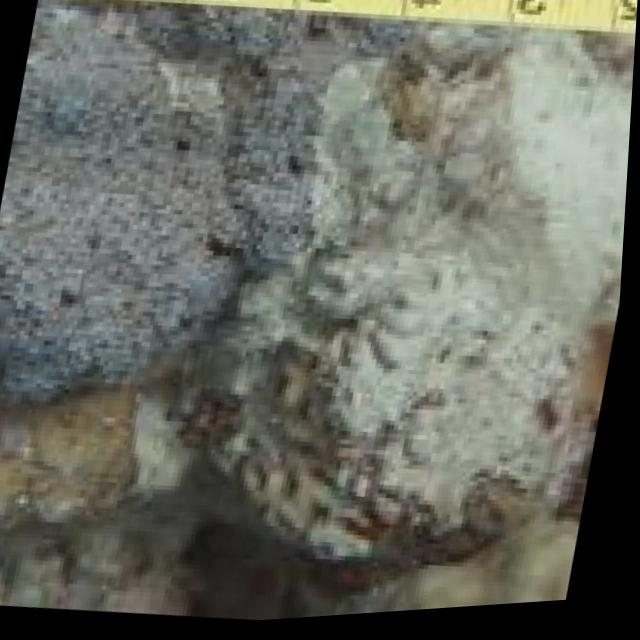Bleached Coral: (184, 13, 638, 629)
